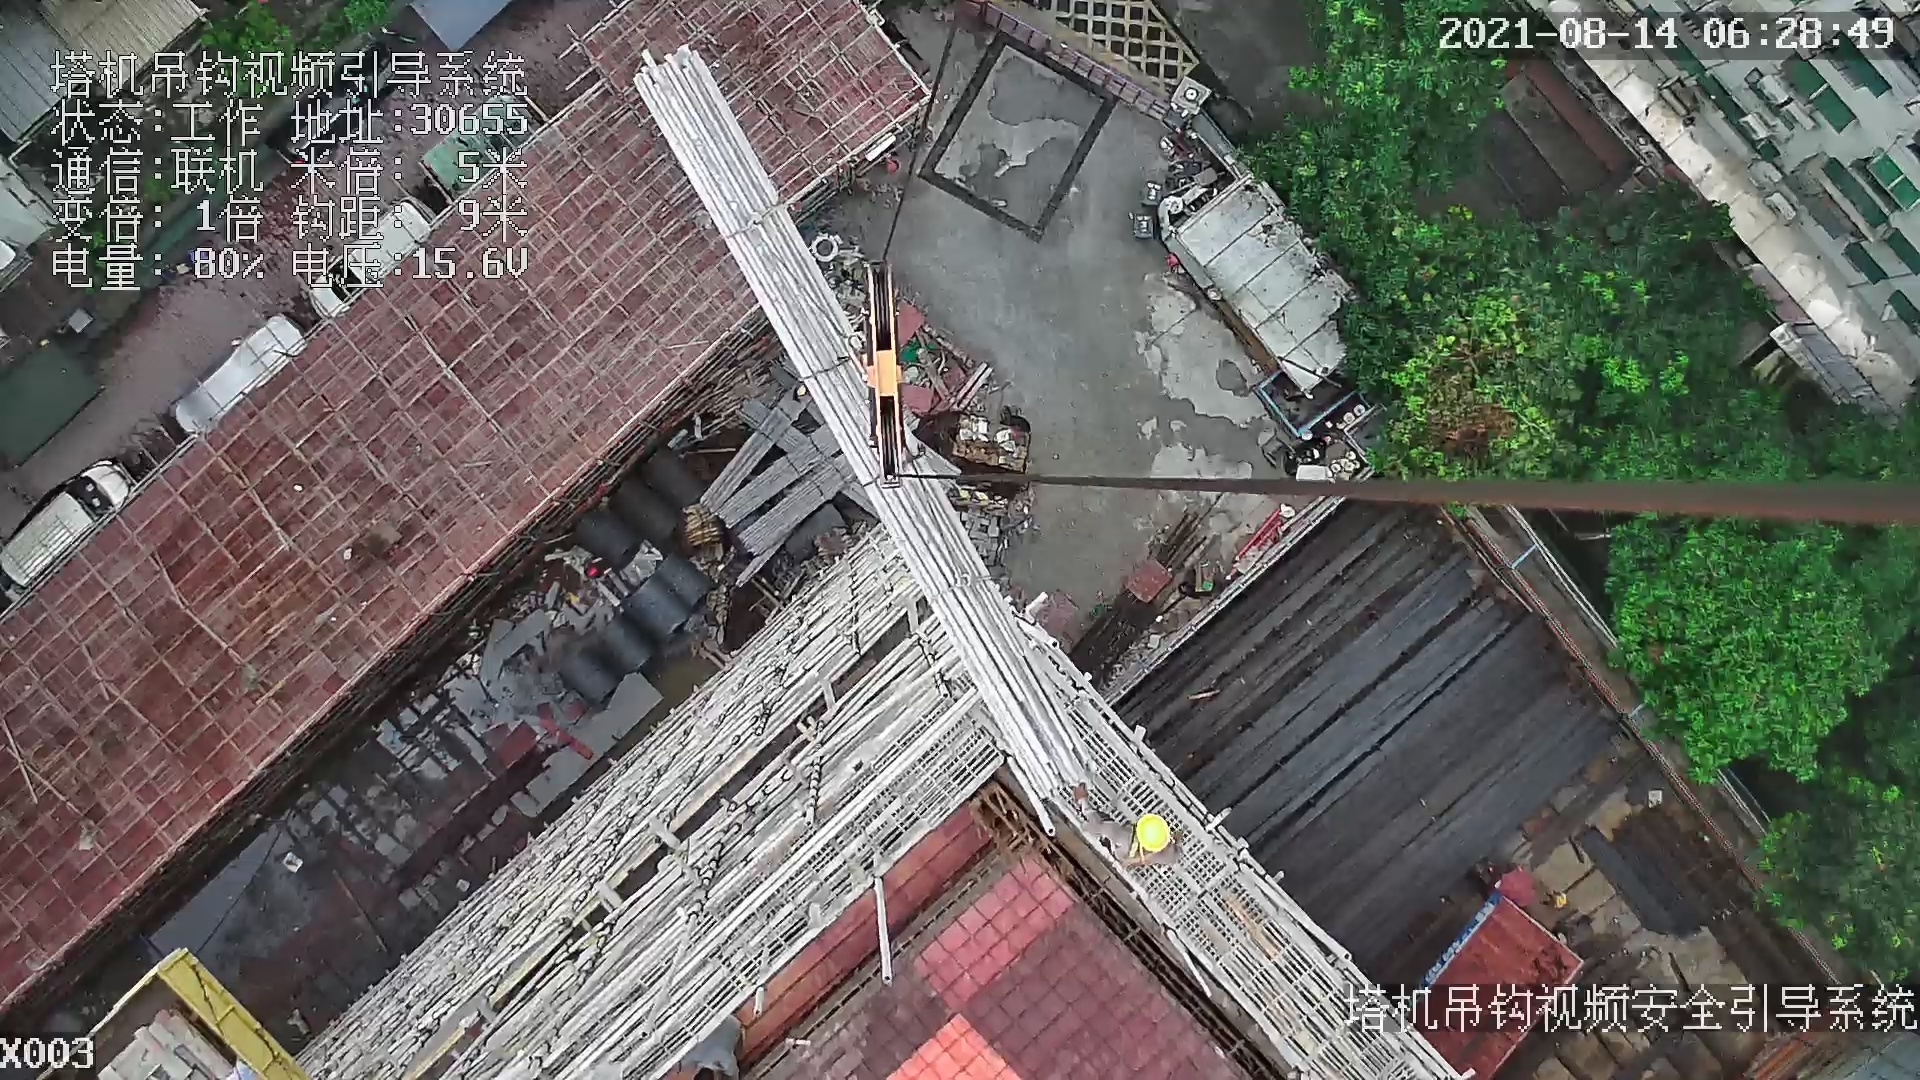helmet: (1127, 810, 1180, 856)
hook: (864, 262, 911, 494)
person: (1070, 792, 1191, 871)
